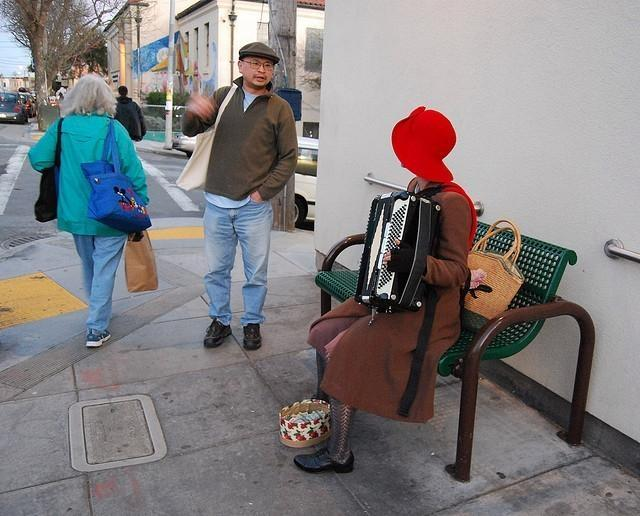car: (294, 136, 318, 228), (172, 134, 197, 160), (0, 105, 29, 126), (18, 92, 38, 118)
